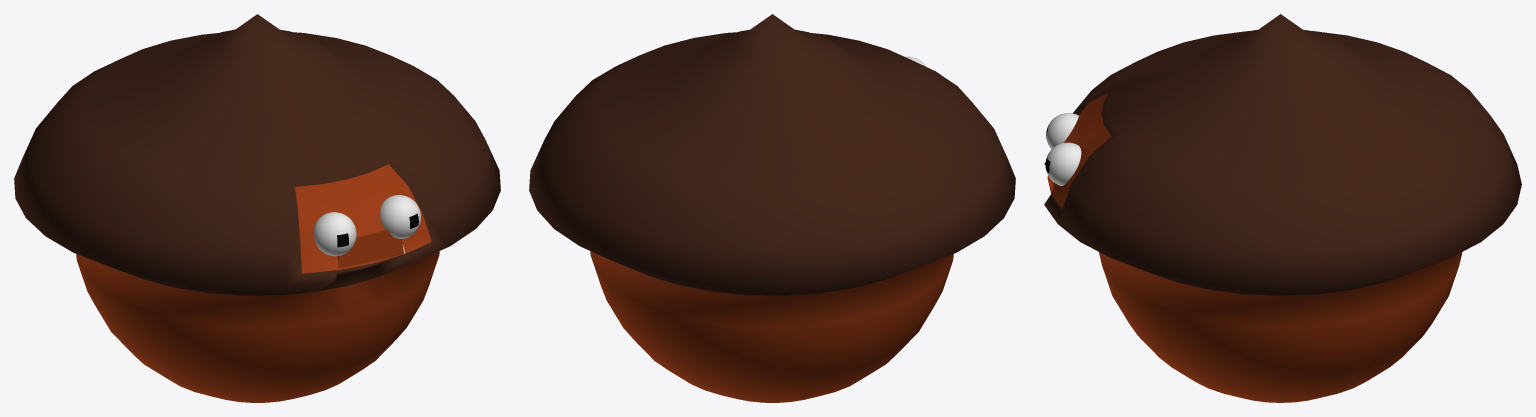
The model's file is gland maléfique.fbx.
The picture shows the model from 3 angles, left to right: view 1: azimuth 30°, elevation 25°; view 2: azimuth 150°, elevation 25°; view 3: azimuth 270°, elevation 25°; orthographic projection.
Parts seen in each view (by area): view 1: Sphere; view 2: Sphere; view 3: Sphere.
Boxes of the visible parts, bbox=[...] form: Sphere: bbox=[14, 14, 500, 402]; Sphere: bbox=[529, 14, 1015, 402]; Sphere: bbox=[1044, 14, 1521, 402].
Size of the model in its own units: 264 by 221 by 257.
